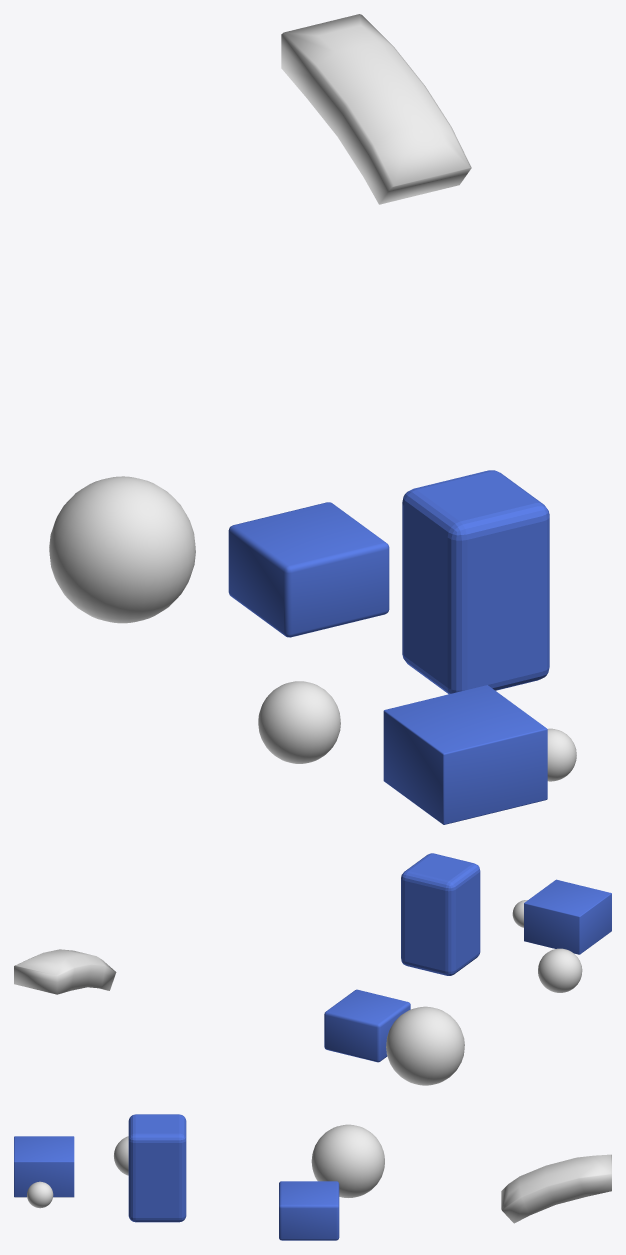
3 renders of one model, top to bottom at view 1: azimuth 30°, elevation 25°; view 2: azimuth 150°, elevation 25°; view 3: azimuth 270°, elevation 25°, orthographic. The views are drawn at different scales.
Parts seen in each view (by area): view 1: Plane.005, Plane, Plane.003, Plane.004, Sphere, Sphere.001, Sphere.002; view 2: Plane.005, Plane.003, Sphere, Plane.004, Plane, Sphere.001; view 3: Plane.005, Plane, Sphere, Plane.004, Plane.003, Sphere.002, Sphere.001.
Part boxes in pixels (x1=…): Plane.005: x1=402, y1=470, x2=549, y2=694; Plane: x1=281, y1=14, x2=471, y2=204; Plane.003: x1=383, y1=685, x2=547, y2=824; Plane.004: x1=228, y1=502, x2=389, y2=637; Sphere: x1=49, y1=476, x2=195, y2=623; Sphere.001: x1=258, y1=681, x2=340, y2=763; Sphere.002: x1=547, y1=728, x2=576, y2=781; Plane.005: x1=401, y1=853, x2=480, y2=975; Plane.003: x1=524, y1=879, x2=611, y2=954; Sphere: x1=386, y1=1006, x2=464, y2=1085; Plane.004: x1=324, y1=989, x2=410, y2=1062; Plane: x1=14, y1=949, x2=116, y2=994; Sphere.001: x1=538, y1=948, x2=582, y2=992; Plane.005: x1=128, y1=1114, x2=186, y2=1222; Plane: x1=501, y1=1154, x2=611, y2=1223; Sphere: x1=311, y1=1124, x2=384, y2=1197; Plane.004: x1=279, y1=1181, x2=339, y2=1240; Plane.003: x1=14, y1=1136, x2=74, y2=1197; Sphere.002: x1=27, y1=1181, x2=53, y2=1208; Sphere.001: x1=114, y1=1136, x2=128, y2=1175.
Size of the model in its own units: 6.21 by 3.03 by 11.17.
